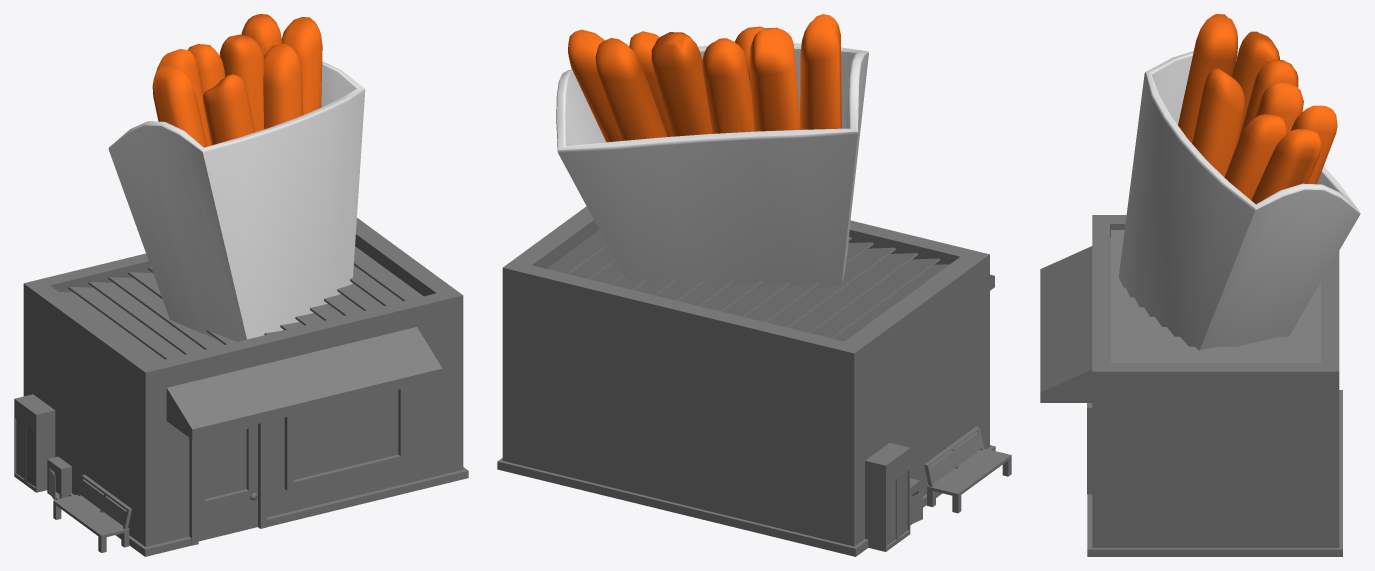
Rendered from PatatoLvl3.FBX.
The picture shows the model from 3 angles, left to right: view 1: azimuth 30°, elevation 25°; view 2: azimuth 150°, elevation 25°; view 3: azimuth 270°, elevation 25°; orthographic projection. The views are drawn at different scales.
Visible parts, largest first — view 1: PopCornLvl3, Box009, Patato; view 2: PopCornLvl3, Box009, Patato; view 3: PopCornLvl3, Box009, Patato.
Part boxes in pixels (bbox=[...]): PopCornLvl3: bbox=[14, 218, 468, 556]; Box009: bbox=[108, 61, 365, 341]; Patato: bbox=[152, 14, 322, 147]; PopCornLvl3: bbox=[497, 206, 1011, 556]; Box009: bbox=[556, 43, 868, 289]; Patato: bbox=[568, 14, 841, 142]; PopCornLvl3: bbox=[1040, 215, 1342, 556]; Box009: bbox=[1118, 51, 1360, 350]; Patato: bbox=[1178, 14, 1337, 204].
Bounding box in the file's own units: 435 × 497 × 338.
